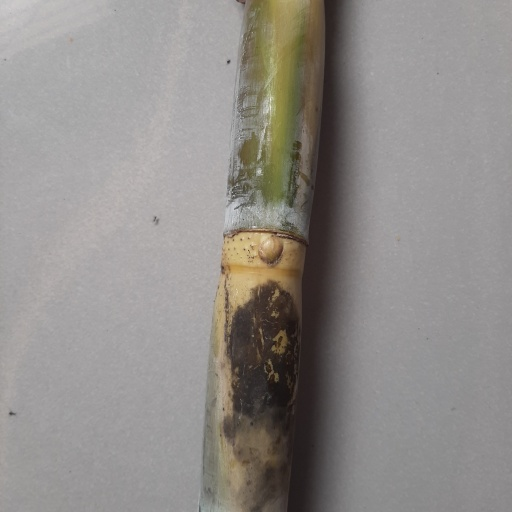Bud: (256, 235, 284, 266)
